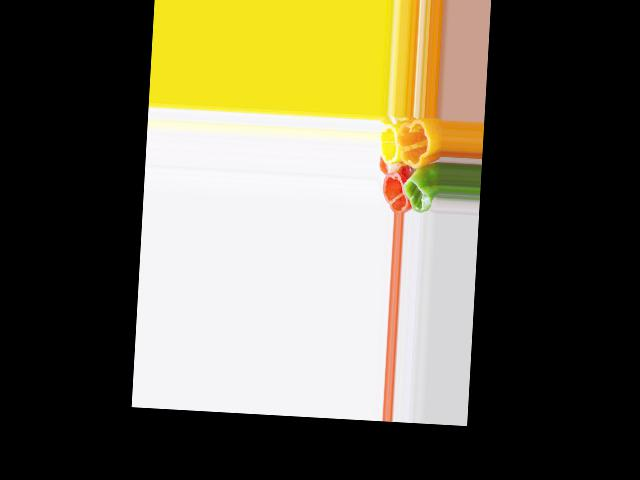bell_pepper: (380, 171, 408, 211)
